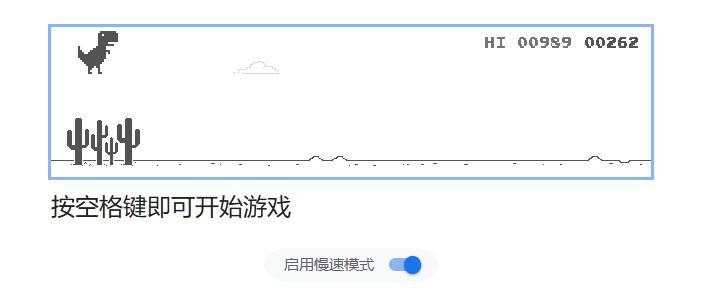cactus: (63, 112, 143, 172)
dino: (72, 29, 120, 76)
